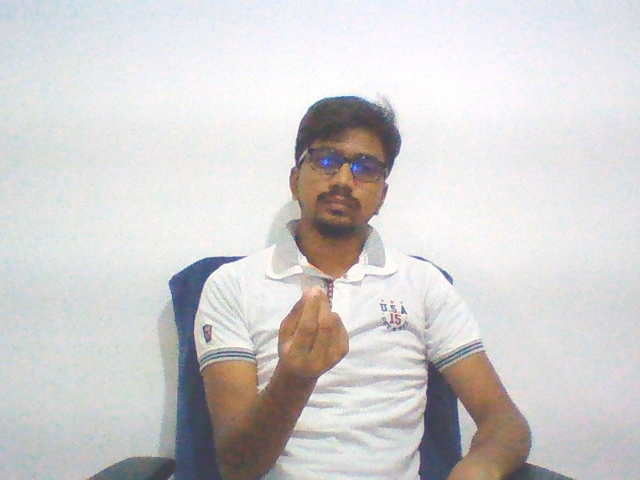dog: (268, 280, 352, 390)
